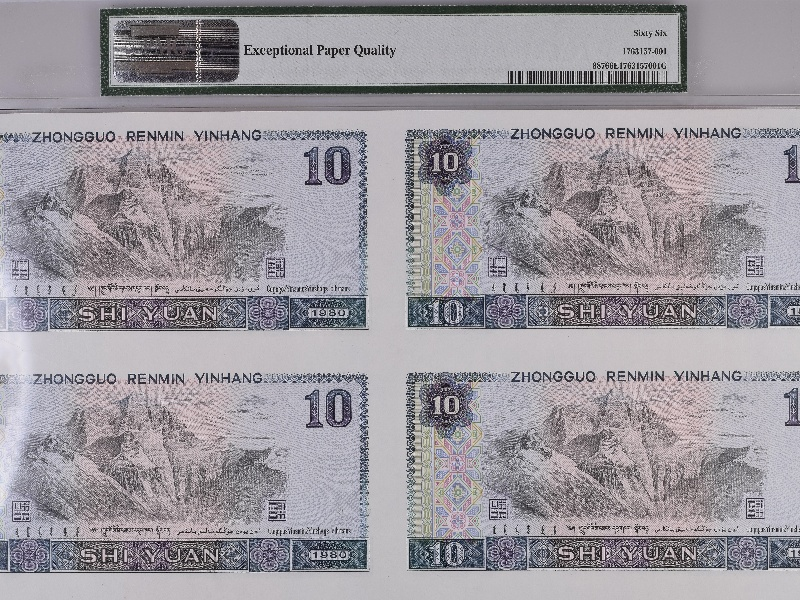papernote: (1, 114, 800, 573)
